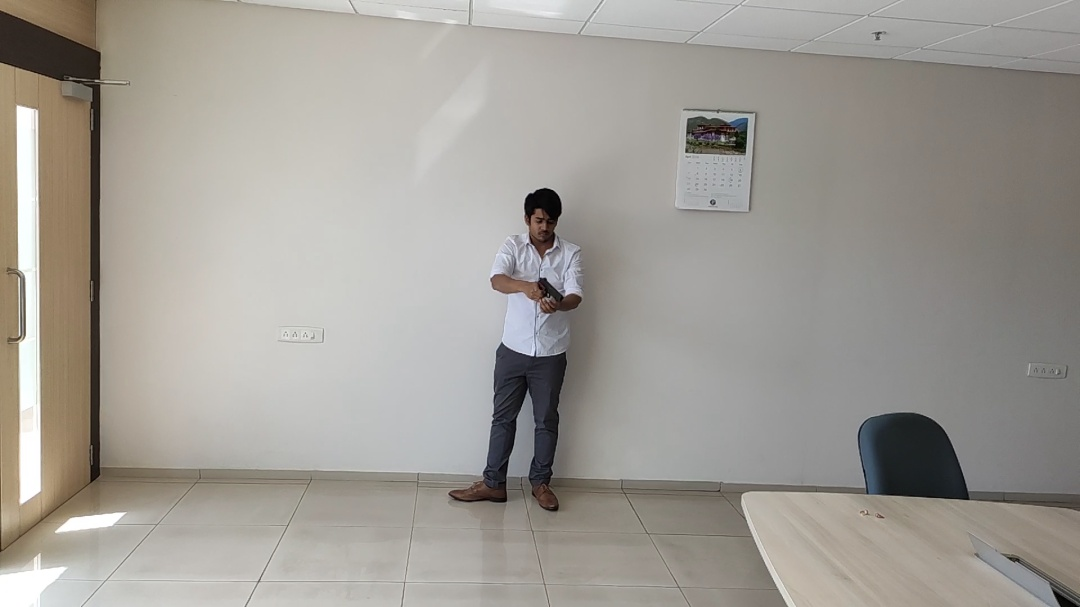gun: (538, 277, 564, 302)
